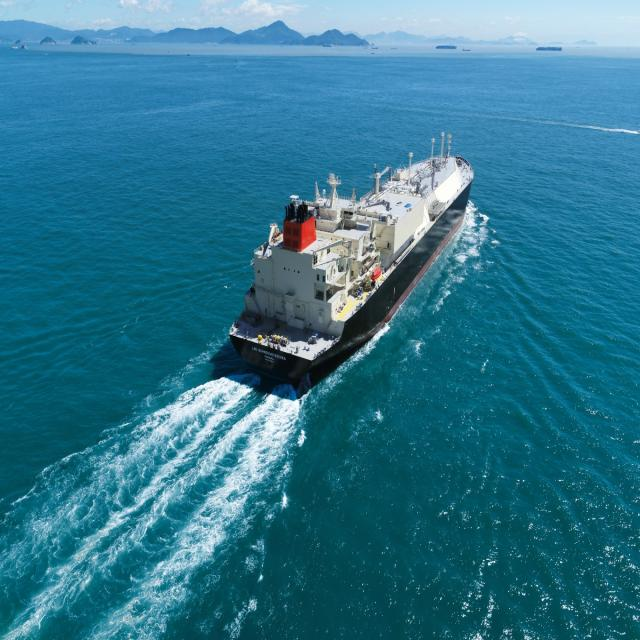boat: (225, 128, 481, 414)
